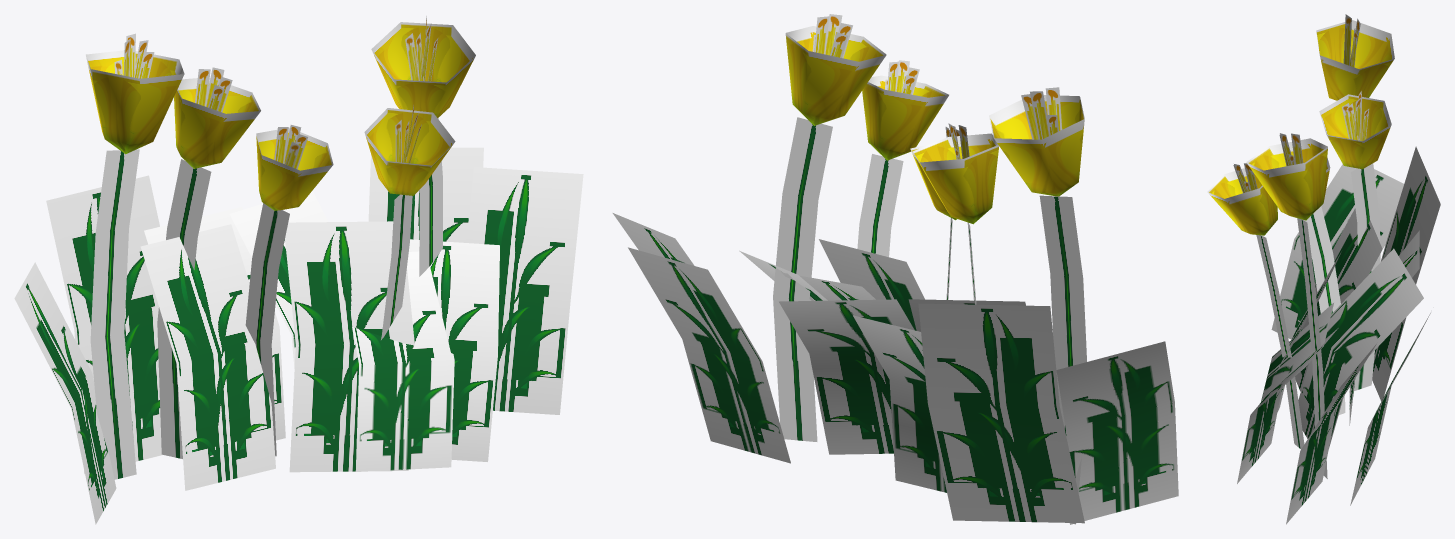
File: Flower_06c.FBX
3 renders of one model, left to right at view 1: azimuth 30°, elevation 25°; view 2: azimuth 150°, elevation 25°; view 3: azimuth 270°, elevation 25°, orthographic. The views are drawn at different scales.
Visible parts, largest first — view 1: Flower_06c; view 2: Flower_06c; view 3: Flower_06c.
Boxes of the visible parts, x1,y1,x2,y2 form: Flower_06c: [14, 16, 583, 524]; Flower_06c: [612, 14, 1178, 524]; Flower_06c: [1207, 14, 1440, 524].
Size of the model in its own units: 50.5 by 37.88 by 22.53.
